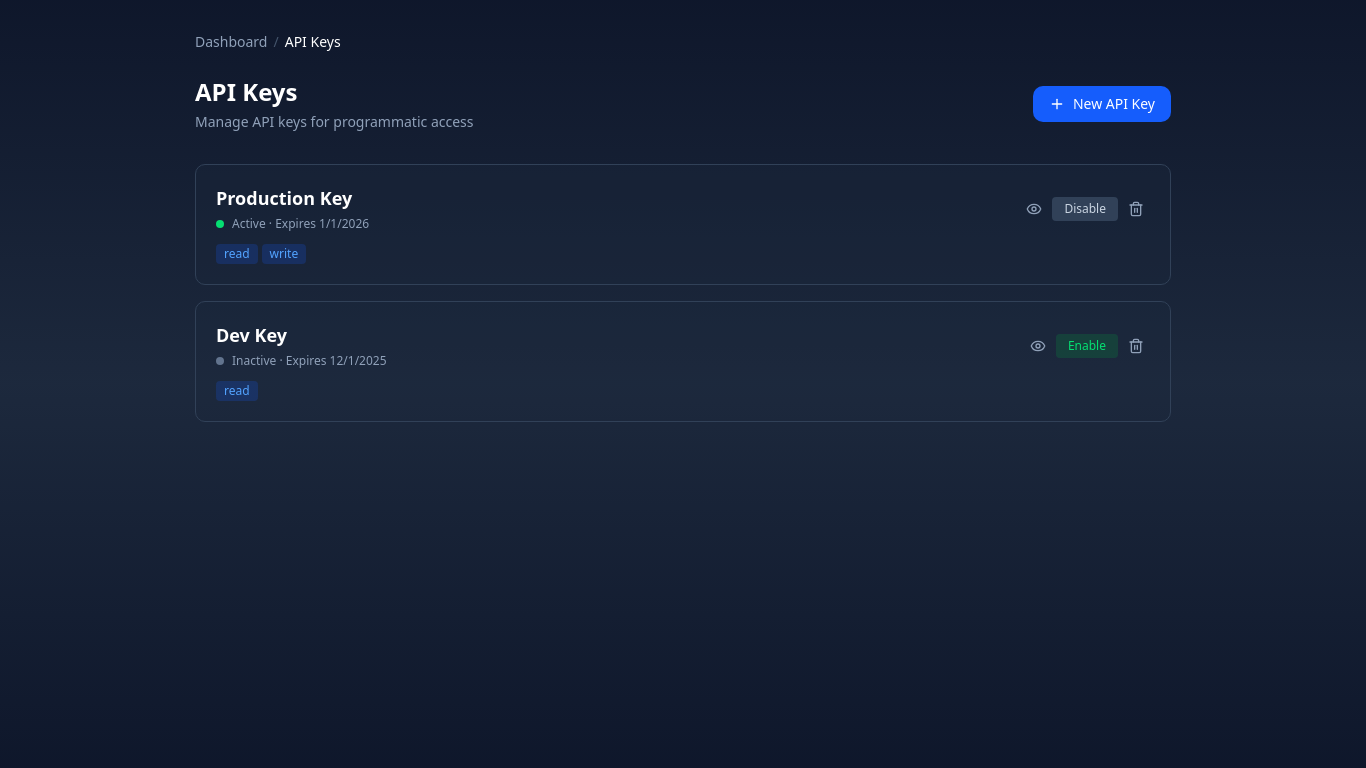
Test case: ApiKeysPage › shows create error on failure
expect the heading "Production Key" is shown: met, box [216,185,369,212]
Click the button "New API Key".
click(1102, 104)  # box [1033,86,1171,122]
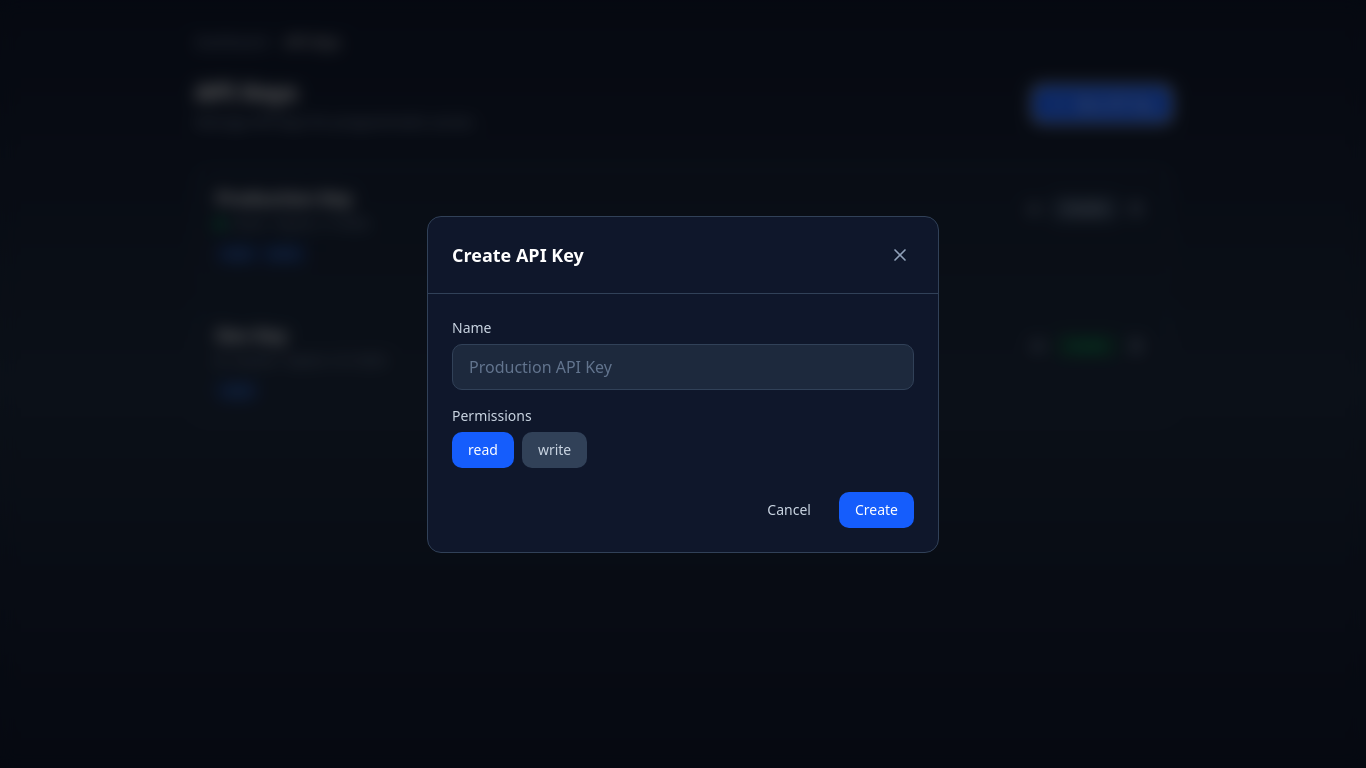
Type "Bad Key" into the field with placeholder "Production API Key".
click(683, 366); type("Bad Key")  # box [452,344,914,390]
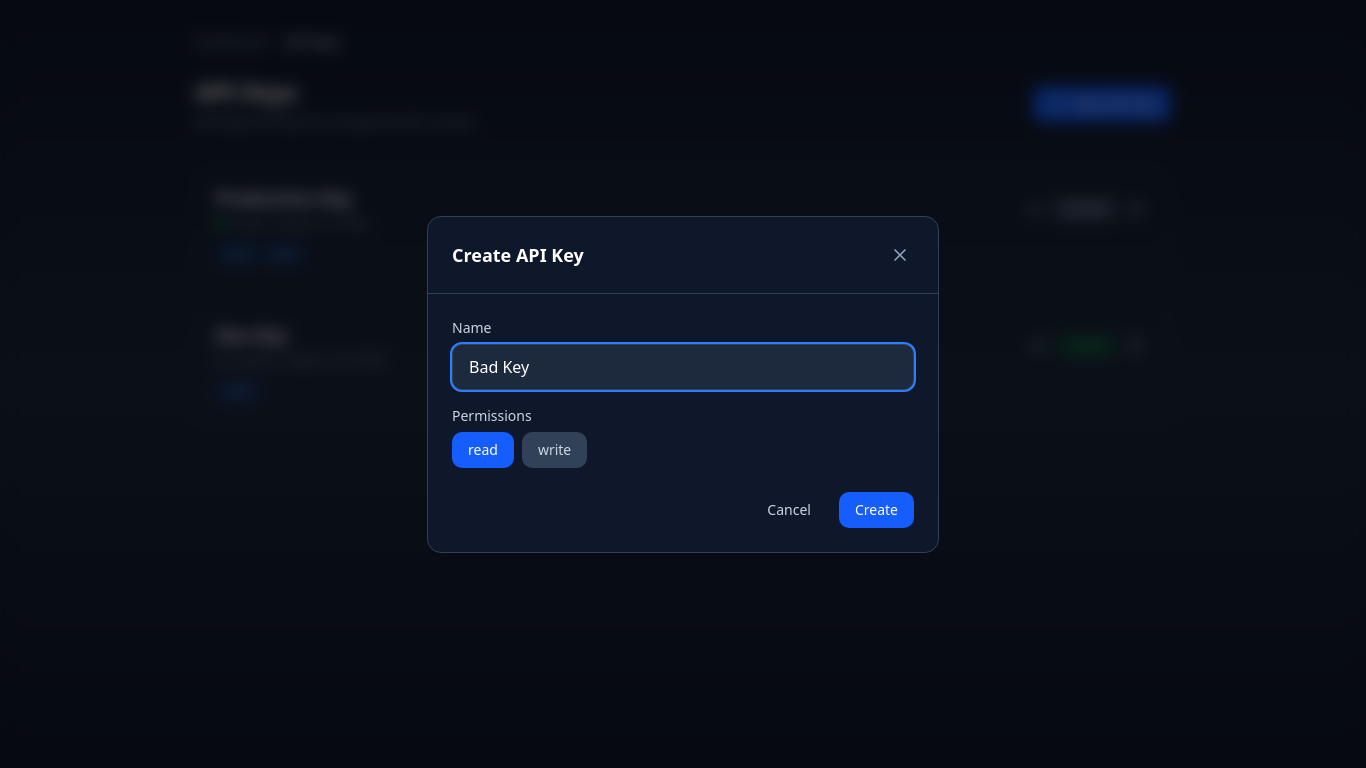
Click the button "Create".
click(876, 510)  # box [839,492,914,528]
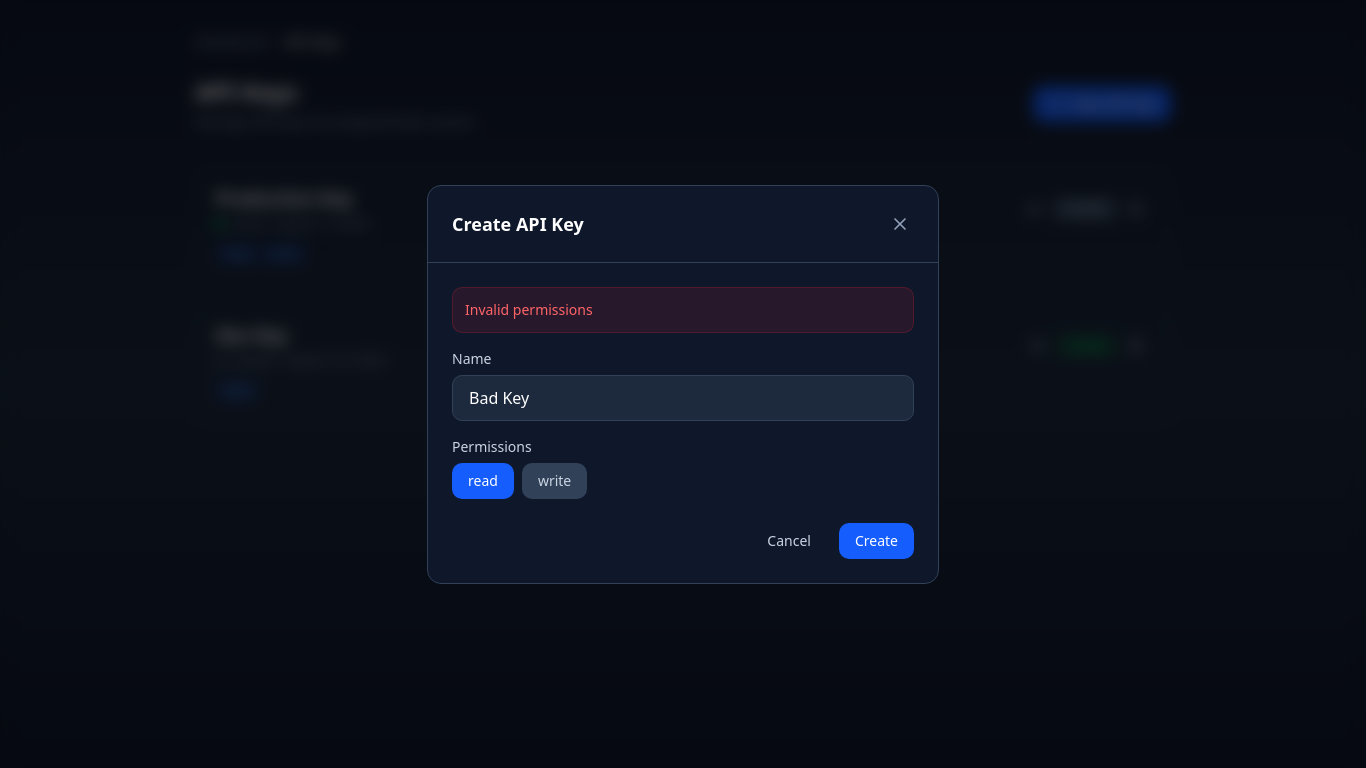
expect the text "Invalid permissions" is shown: met, box [452,286,914,332]
